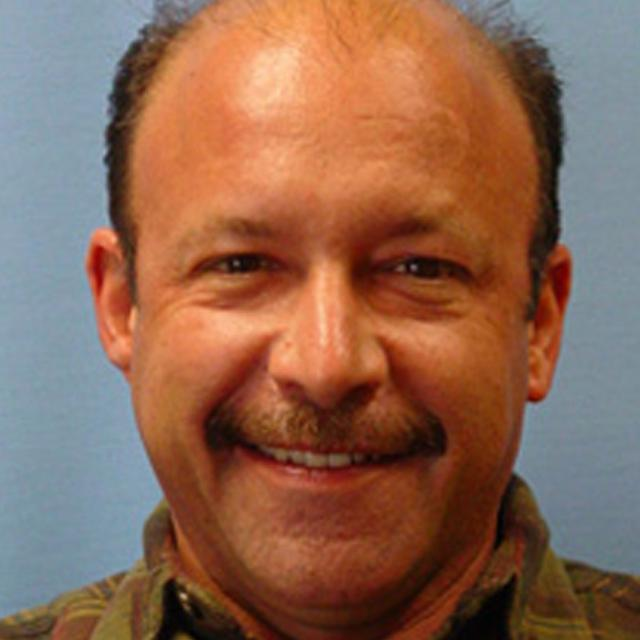Normal: (132, 0, 540, 605)
